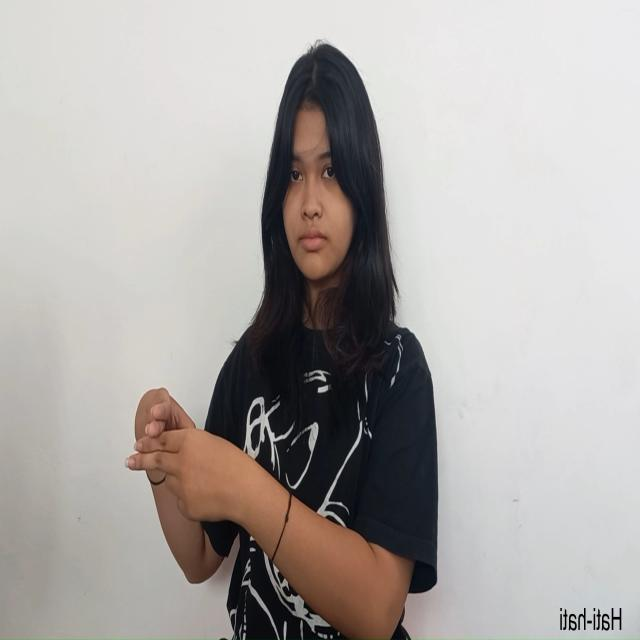Hati-hati -BISINDO-: (124, 388, 249, 525)
